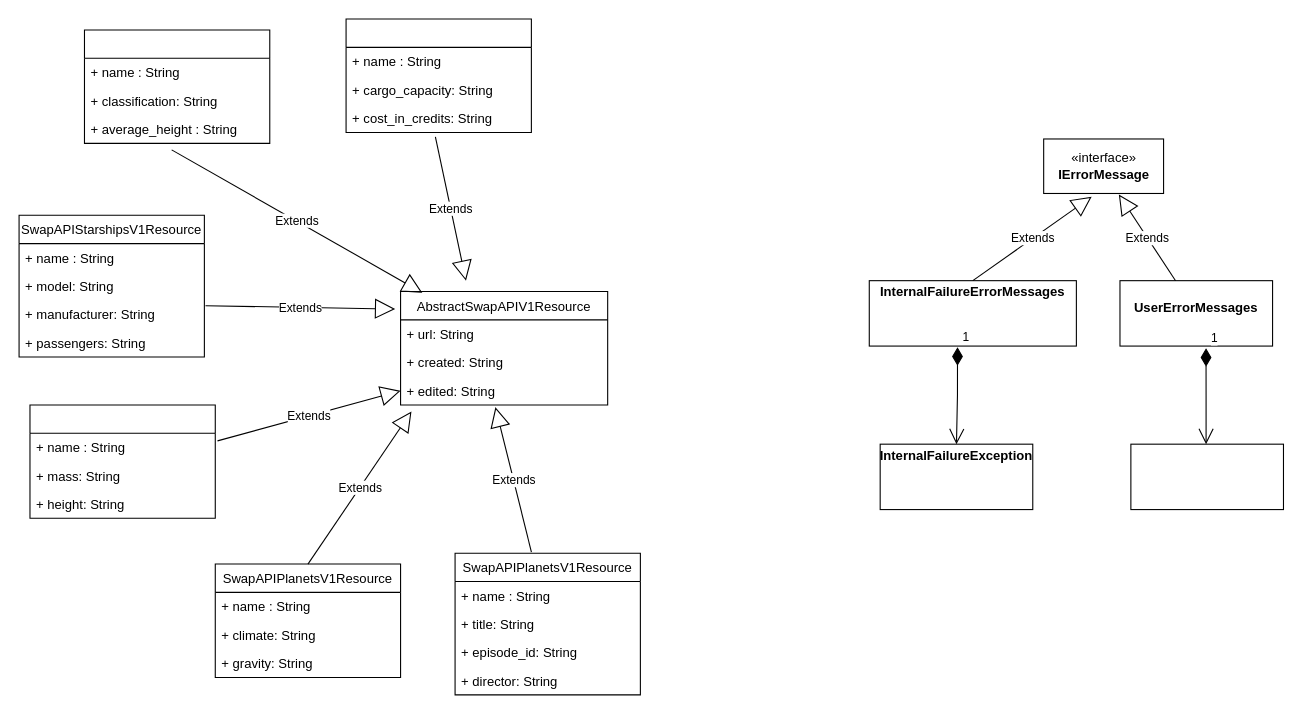
Image size: 1303x717. Some labels were removed from this diagram. Here are the shapes that lost their labels. From the top down, the box of each, then its label:
(83, 29, 270, 143): SwapAPISpeciesV1Resource
(345, 18, 531, 132): SwapAPIVehiclesV1Resource
(29, 404, 215, 518): SwapAPIPeopleV1Resource
(1130, 443, 1283, 510): UserException
